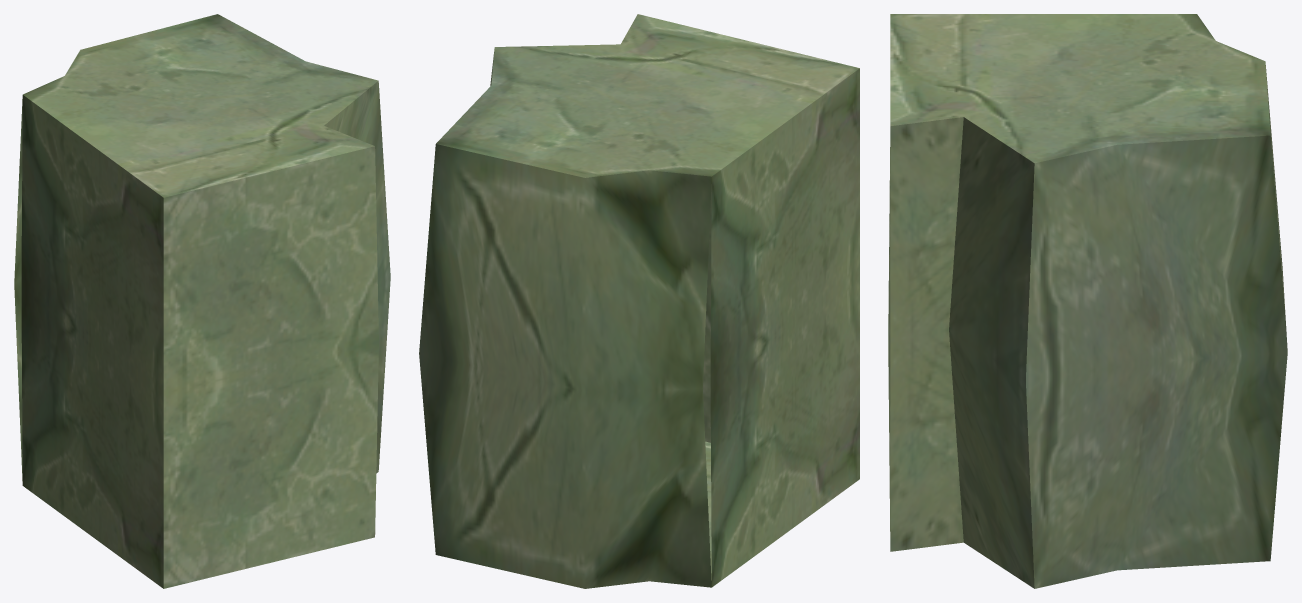
File: Ruins_Wall_DMG_Corner_BotRight_A.fbx
3 views of the same model, side by side, from view 1: azimuth 30°, elevation 25°; view 2: azimuth 150°, elevation 25°; view 3: azimuth 270°, elevation 25° (orthographic). The views are drawn at different scales.
Visible parts, largest first — view 1: Ruins_Wall_DMG_Corner_BotRight_A; view 2: Ruins_Wall_DMG_Corner_BotRight_A; view 3: Ruins_Wall_DMG_Corner_BotRight_A.
Part boxes in pixels (left/top/right/bottom): Ruins_Wall_DMG_Corner_BotRight_A: left=14, top=14, right=390, bottom=588; Ruins_Wall_DMG_Corner_BotRight_A: left=419, top=14, right=859, bottom=588; Ruins_Wall_DMG_Corner_BotRight_A: left=888, top=14, right=1287, bottom=588.
Bounding box in the file's own units: 194 × 250 × 213.
